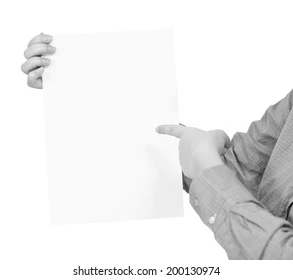pointing_gesture: (155, 123, 229, 178)
